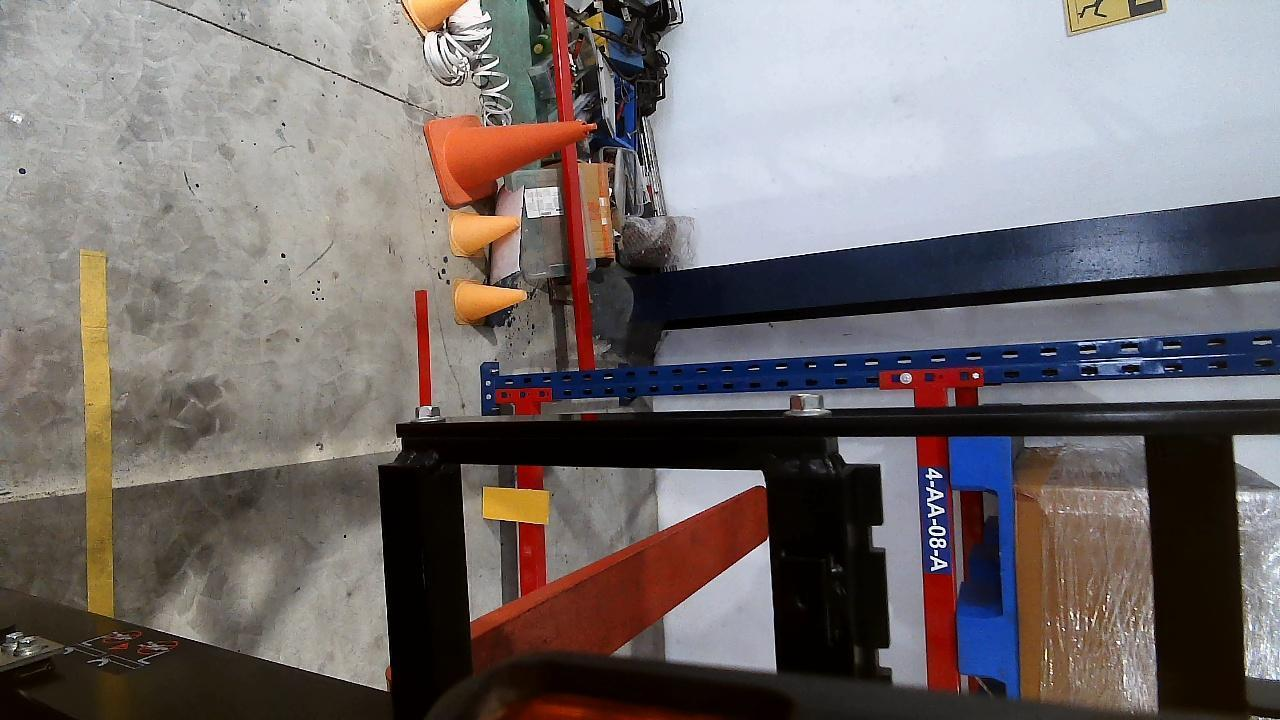red_line: (414, 290, 433, 411)
yellow_line: (80, 250, 113, 618)
